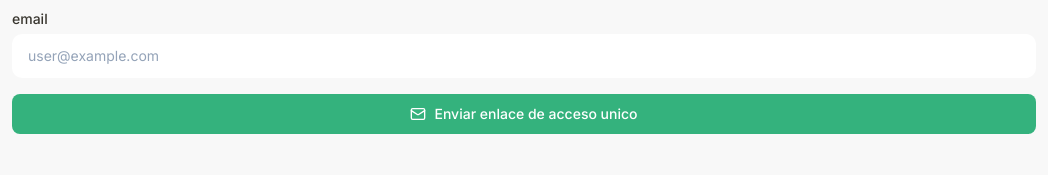
AuthForms › shows OTP validation error on invalid email
The image size is (1048, 175).
Type "invalid-email" into the field labelled "email" at (524, 56), box [12,34,1036,78]
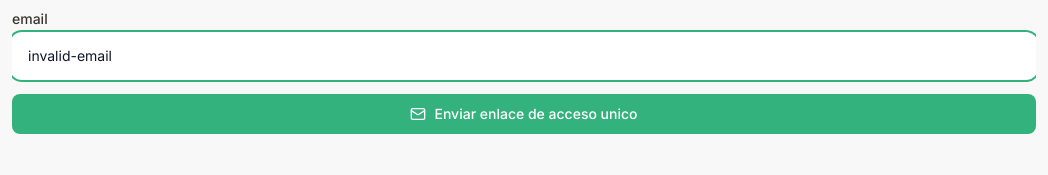
Click the button at (524, 114), box [12,94,1036,134]
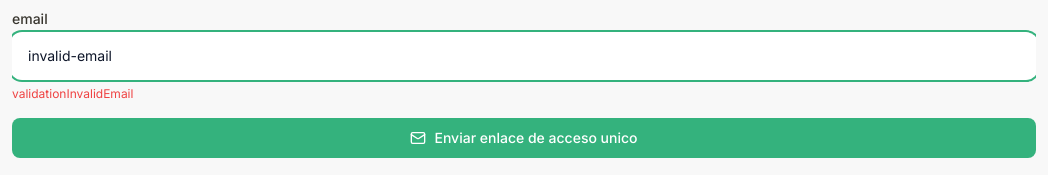
Now the text "validationInvalidEmail" is shown, box [12,86,133,101]
